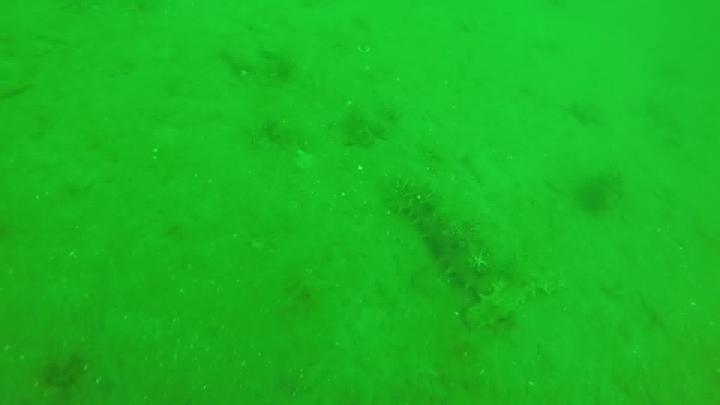echinus: (572, 169, 623, 217)
holothurian: (382, 175, 497, 298), (462, 269, 562, 332)
